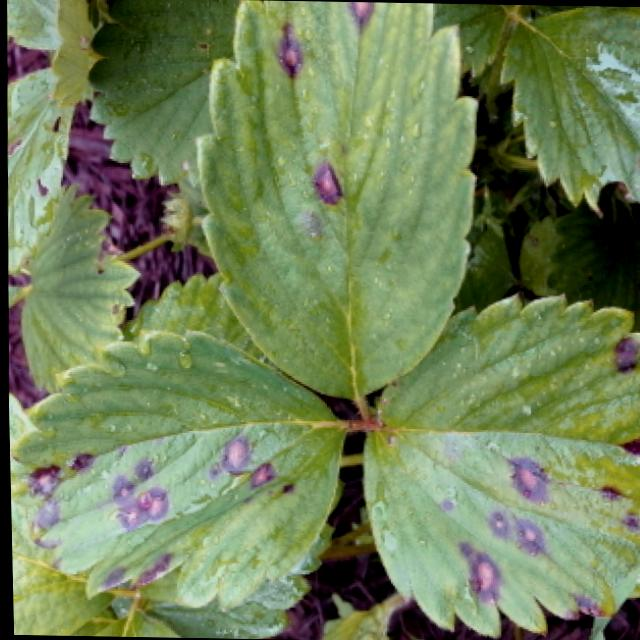Leaf Spot: (196, 0, 482, 396), (356, 287, 640, 636), (8, 330, 344, 615), (496, 5, 640, 218), (6, 69, 74, 278)
